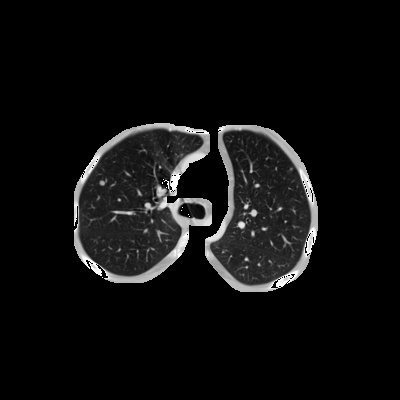PN: (100, 180, 104, 184)
